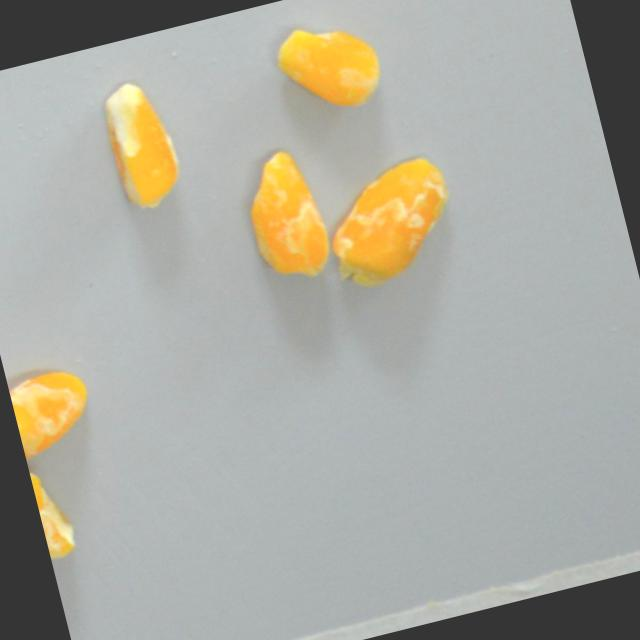pelicula: (310, 164, 471, 279), (73, 86, 219, 207), (215, 164, 358, 267), (267, 16, 393, 116), (4, 357, 101, 466), (28, 461, 91, 562)
